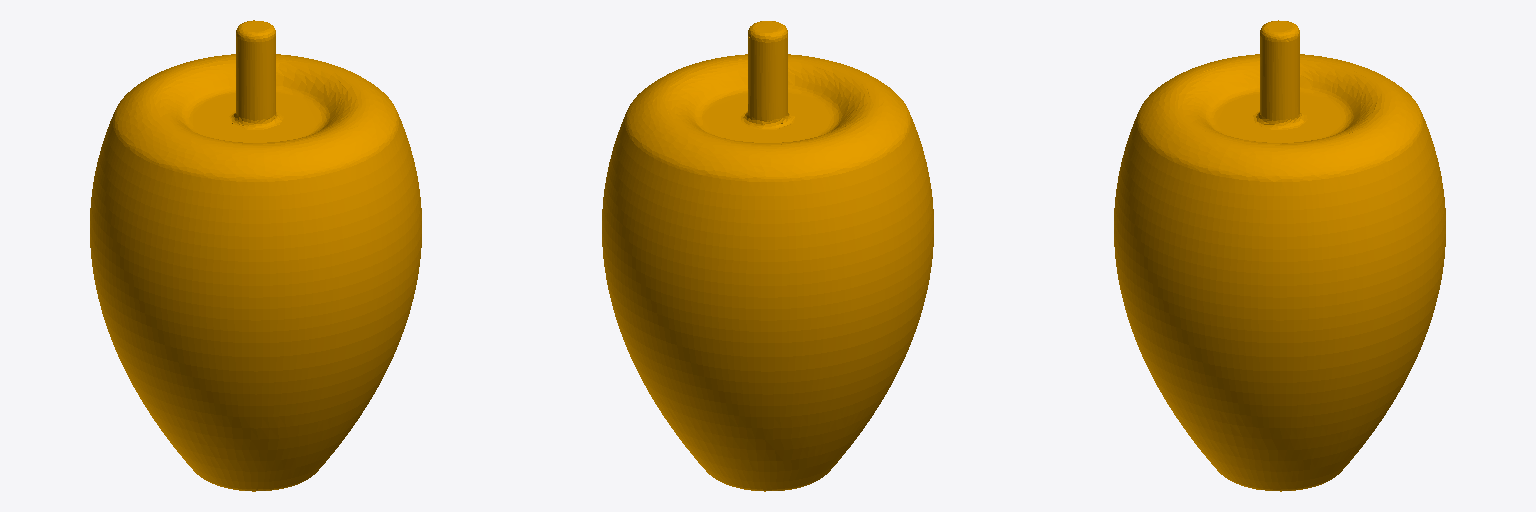
robot.urdf — Bell Pepper:
<?xml version="1.0"?>
<robot name="Bell Pepper">
  <link name="base_link">
    <inertial>
      <origin xyz="0.000000 -0.000000 0.011875" rpy="0 0 0" />
      <mass value="0.377438" />
      <inertia ixx="0.00035261" ixy="-0.00000000" ixz="0.00000000"
               iyy="0.00035261" iyz="-0.00000000" izz="0.00026075" />
    </inertial>
    <visual>
      <geometry><mesh filename="Bell Pepper.stl" scale="1.0 1.0 1.0" /></geometry>
    </visual>
    <collision>
      <geometry><mesh filename="Bell Pepper_col.obj" scale="1.0 1.0 1.0" /></geometry>
    </collision>
    <contact>
      <lateral_friction value="1.0"/>
    </contact>
  </link>
</robot>

--- What the picture shows (computed from the rendered views, not written in the file) ---
The picture shows the robot from 3 angles, left to right: view 1: azimuth 30°, elevation 25°; view 2: azimuth 150°, elevation 25°; view 3: azimuth 270°, elevation 25°; orthographic projection.
Model Bell Pepper with 1 links and 0 joints (none), rooted at base_link, posed every joint at zero.
Links seen in each view (by area): view 1: base_link; view 2: base_link; view 3: base_link.
Link boxes in pixels (x1,y1,x2,y2): base_link: (90, 20, 421, 491); base_link: (602, 21, 933, 491); base_link: (1114, 20, 1445, 491).
Size in the robot's own frame: 0.082 by 0.082 by 0.12 metres.
Meshes: 1 distinct files referenced, 1 mesh visuals loaded (1 binary STL).
